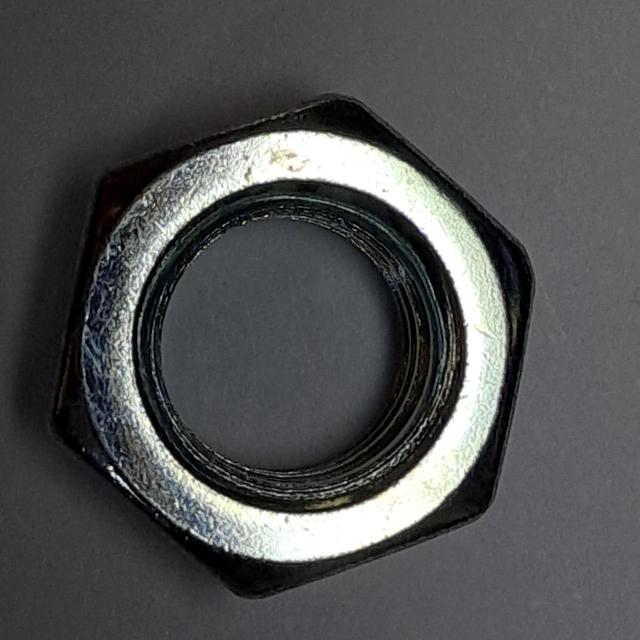Excellent: (36, 79, 548, 612)
